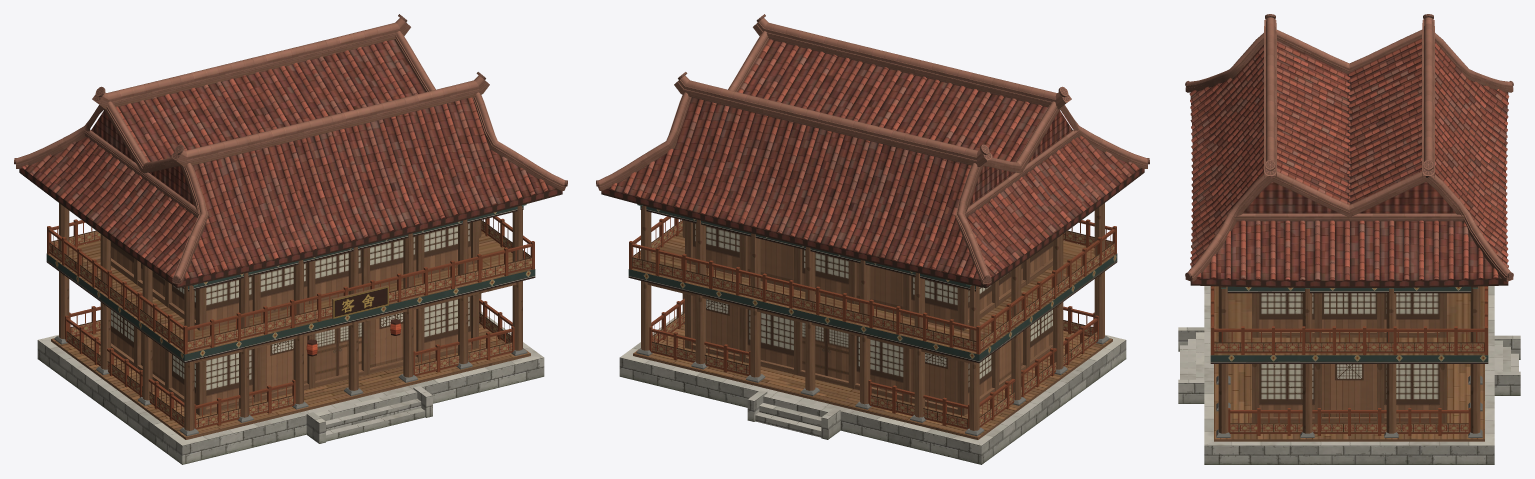
The model's file is prop_hall_tiled.b4e90aac.glb.
The picture shows the model from 3 angles, left to right: view 1: azimuth 30°, elevation 25°; view 2: azimuth 150°, elevation 25°; view 3: azimuth 270°, elevation 25°; orthographic projection.
Parts seen in each view (by area): view 1: prop_hall_tiled; view 2: prop_hall_tiled; view 3: prop_hall_tiled.
Boxes of the visible parts, x1,y1,x2,y2 form: prop_hall_tiled: (14,14,567,464); prop_hall_tiled: (596,14,1149,464); prop_hall_tiled: (1178,14,1520,464).
Bounding box in the file's own units: 14.2 × 9.89 × 10.6.
Materials: 1 (1 with a texture image).
